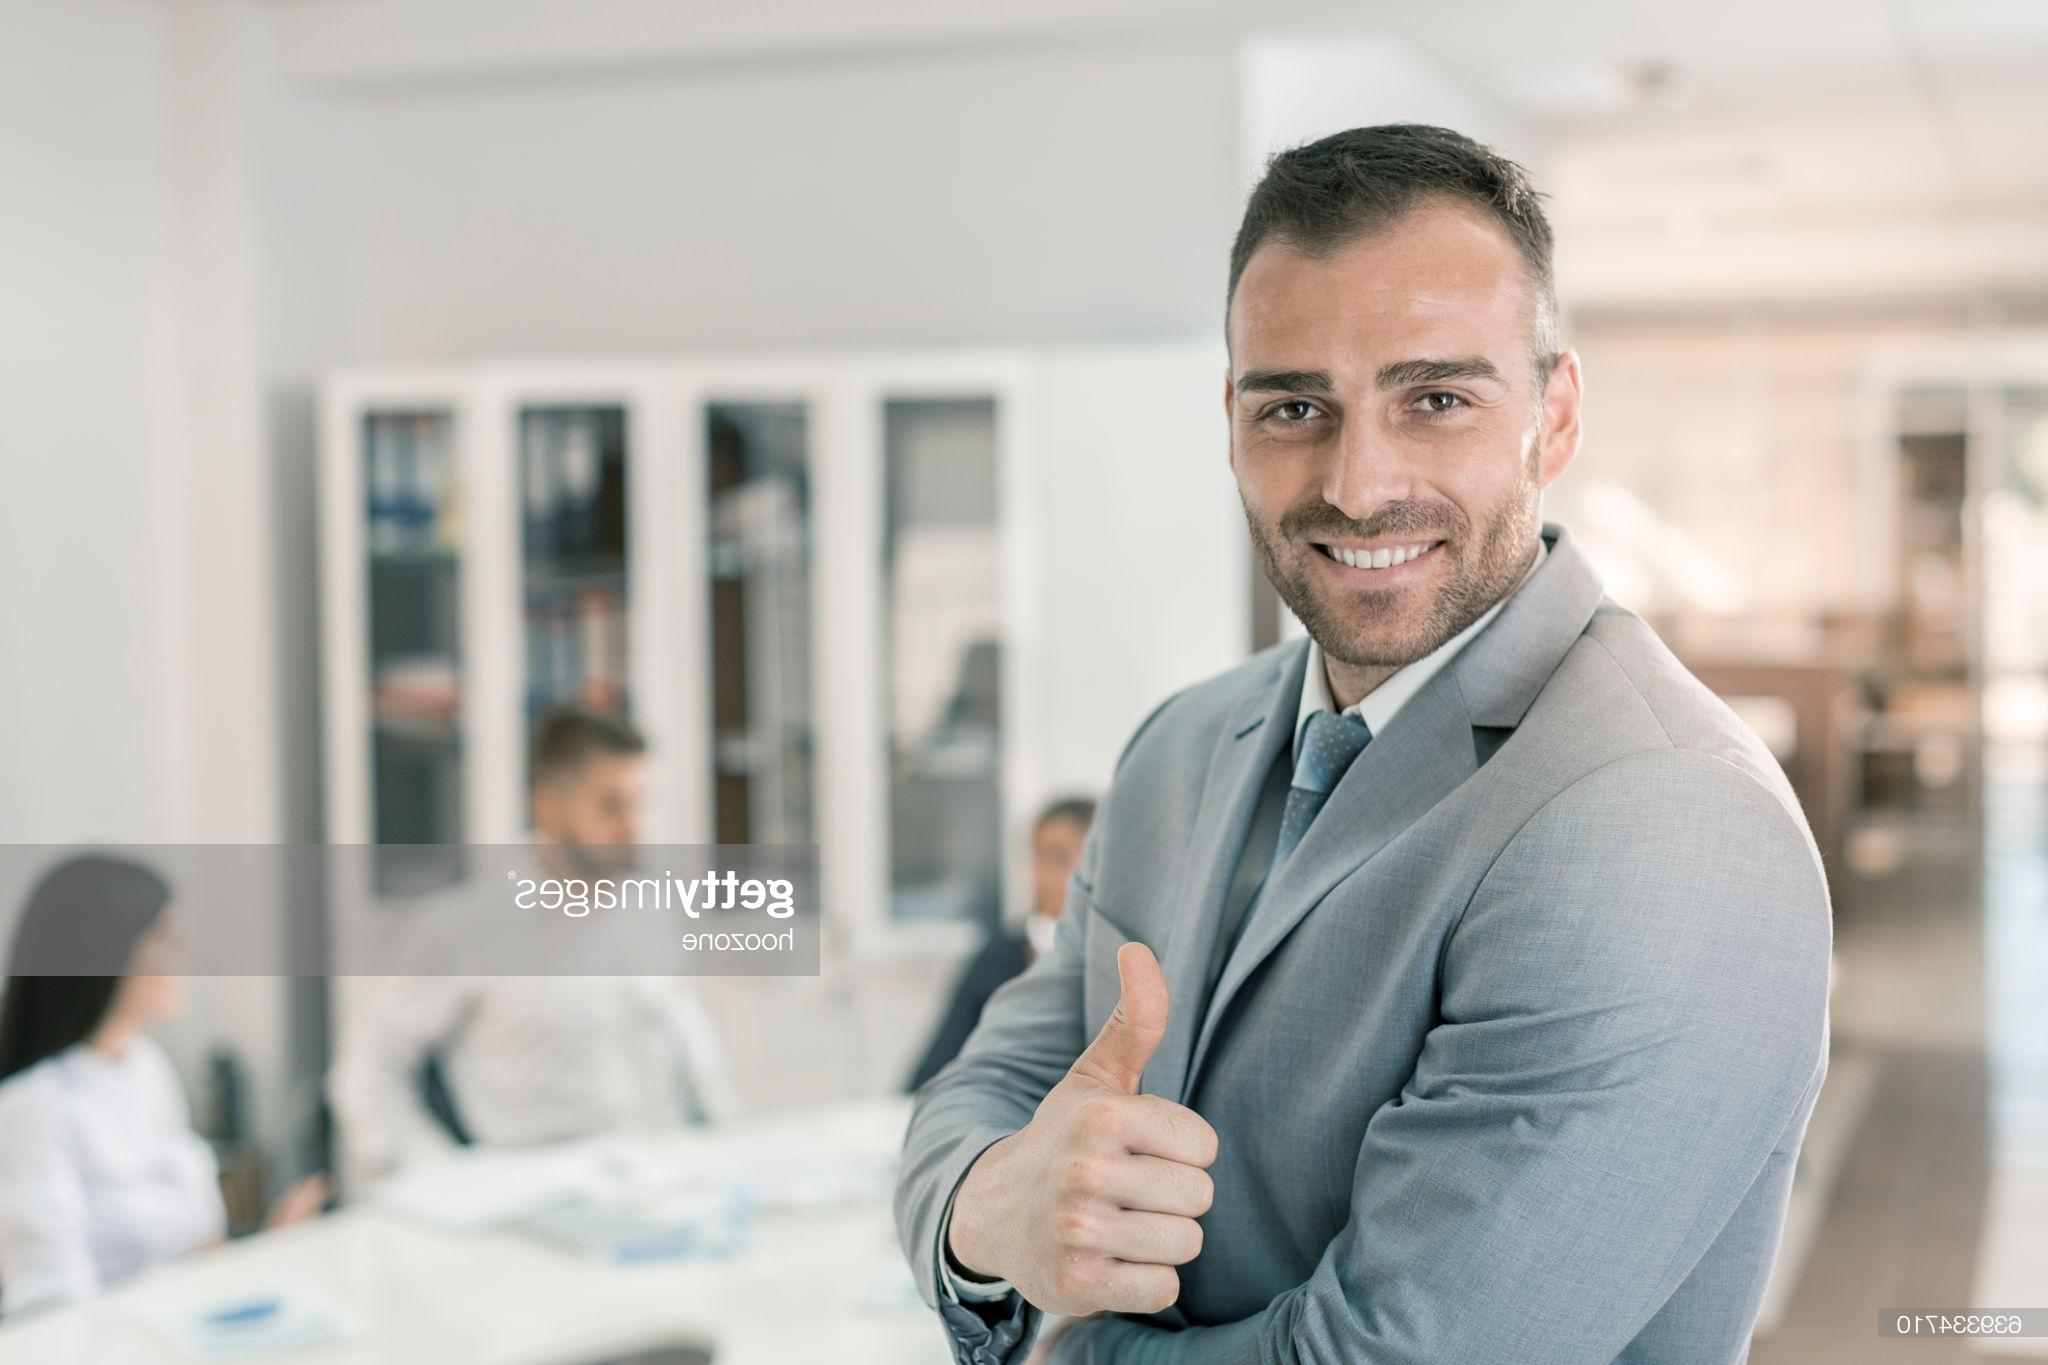thumbsup: (1026, 940, 1220, 1313)
